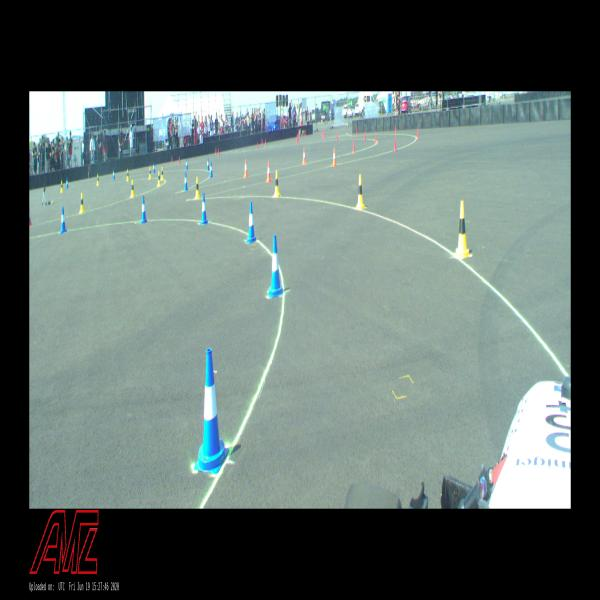blue_cone: (194, 348, 229, 474), (269, 235, 283, 297), (246, 202, 257, 242), (200, 192, 208, 225), (60, 207, 67, 233), (141, 196, 146, 223), (184, 172, 188, 191), (210, 162, 213, 177), (112, 169, 115, 181), (185, 158, 188, 170), (152, 162, 155, 173), (66, 178, 69, 189), (207, 158, 209, 171)
orange_cone: (266, 161, 271, 182), (332, 148, 337, 166), (244, 159, 248, 178), (302, 147, 306, 165)
unknown_cone: (393, 136, 397, 152), (352, 140, 355, 152), (374, 132, 377, 143), (417, 127, 419, 139), (364, 130, 366, 140), (395, 124, 397, 134), (356, 126, 358, 136), (261, 138, 263, 146), (323, 131, 325, 139), (171, 156, 173, 163), (215, 147, 217, 154), (297, 134, 298, 144), (179, 155, 180, 164), (218, 148, 219, 157), (265, 138, 266, 147), (336, 132, 337, 141), (257, 142, 258, 150)
yellow_cone: (452, 200, 473, 258), (355, 174, 366, 210), (273, 171, 281, 196), (79, 193, 85, 213), (195, 177, 200, 199), (130, 179, 135, 198), (157, 171, 161, 186), (148, 166, 152, 180), (96, 173, 100, 186), (161, 166, 164, 180), (60, 180, 63, 192), (126, 169, 128, 182)
